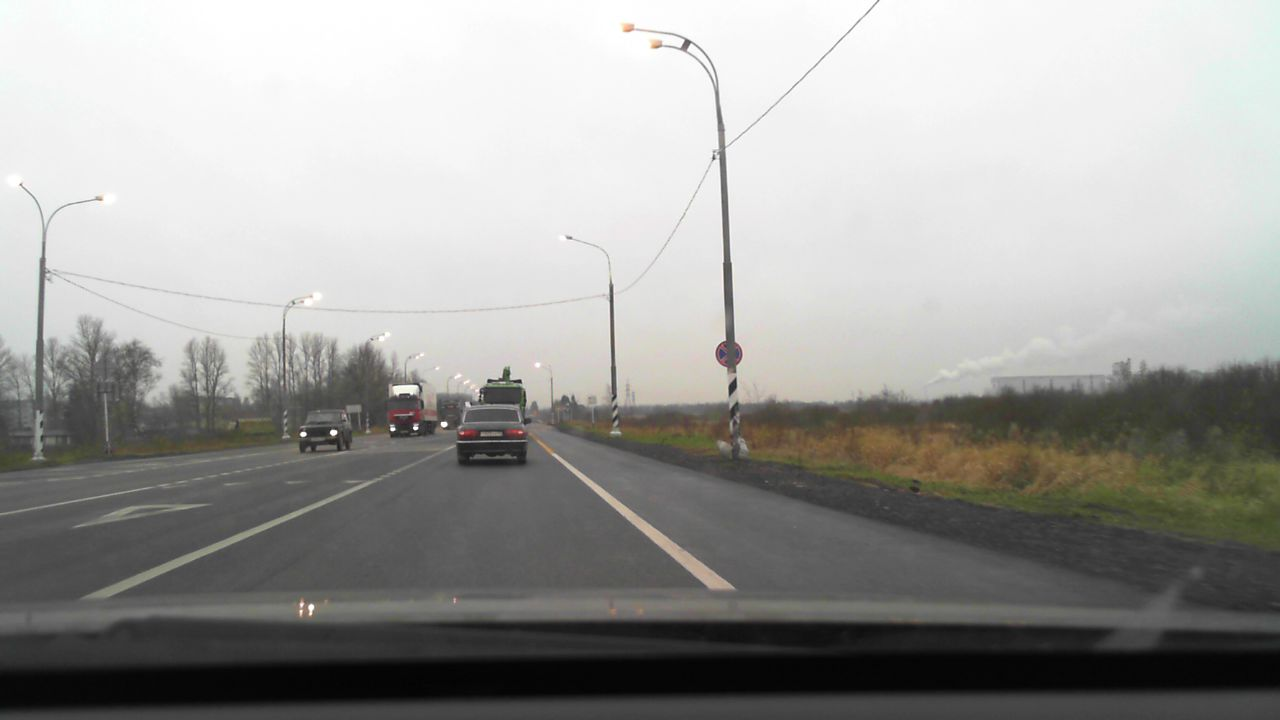No Parking: (715, 340, 743, 367)
